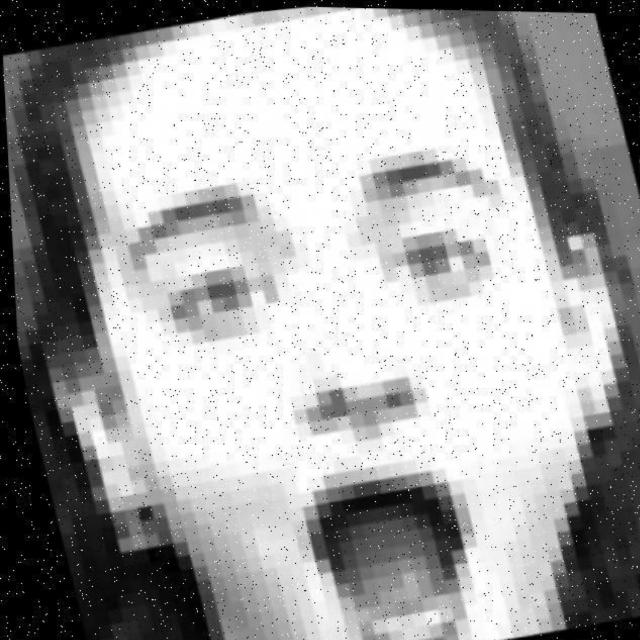Surprised: (24, 58, 640, 640)
